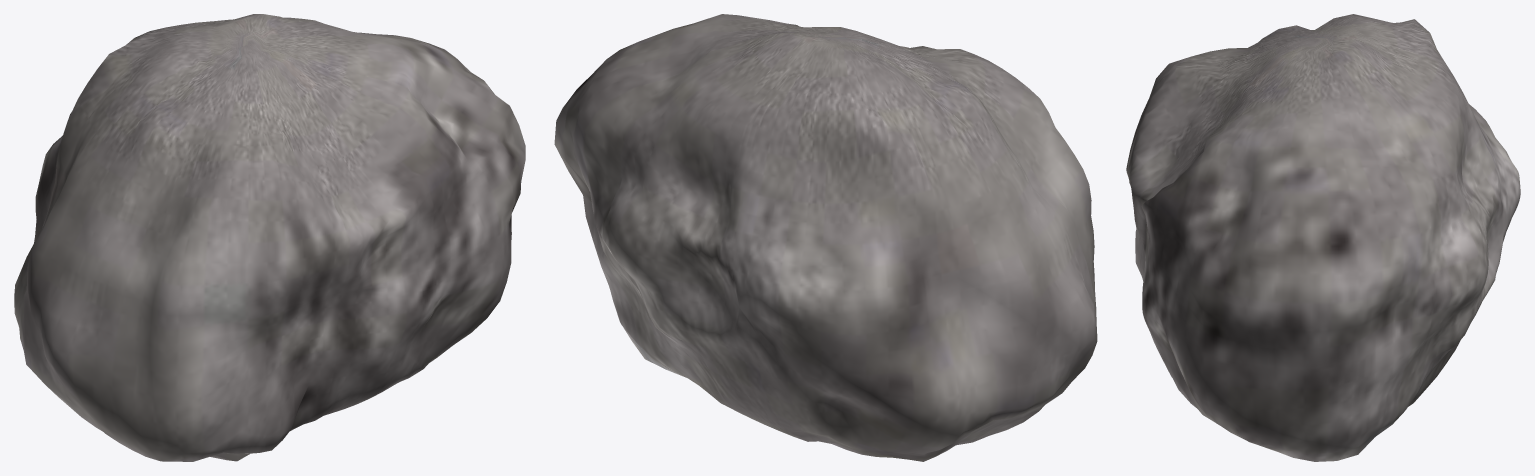
File: epimetheus.dae
3 renders of one model, left to right at view 1: azimuth 30°, elevation 25°; view 2: azimuth 150°, elevation 25°; view 3: azimuth 270°, elevation 25°, orthographic. The views are drawn at different scales.
Visible parts, largest first — view 1: obj_0; view 2: obj_0; view 3: obj_0.
Boxes of the visible parts, x1,y1,x2,y2 form: obj_0: (14,14,525,461); obj_0: (554,14,1097,461); obj_0: (1126,14,1520,461).
Bounding box in the file's own units: 1.45 × 1.03 × 1.12.
1 material, 1 textured.
